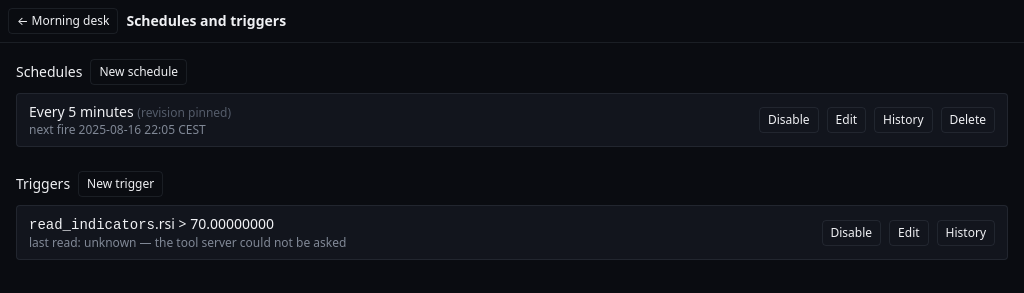
creating and editing a schedule › toggles enabled through the module and shows a disabled reason it wrote
Click the button "Disable" in the row of "revision pinned" at [789, 120], box left=759, top=107, right=819, bottom=133
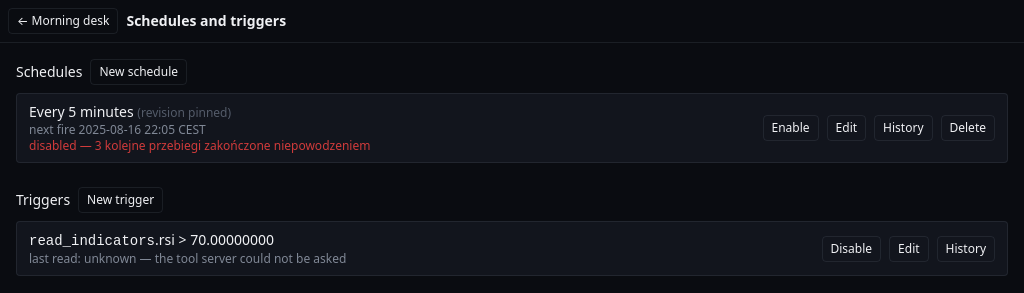
Expected: the text "disabled — 3 kolejne przebiegi zakończone niepowodzeniem" is shown, left=29, top=138, right=370, bottom=154
